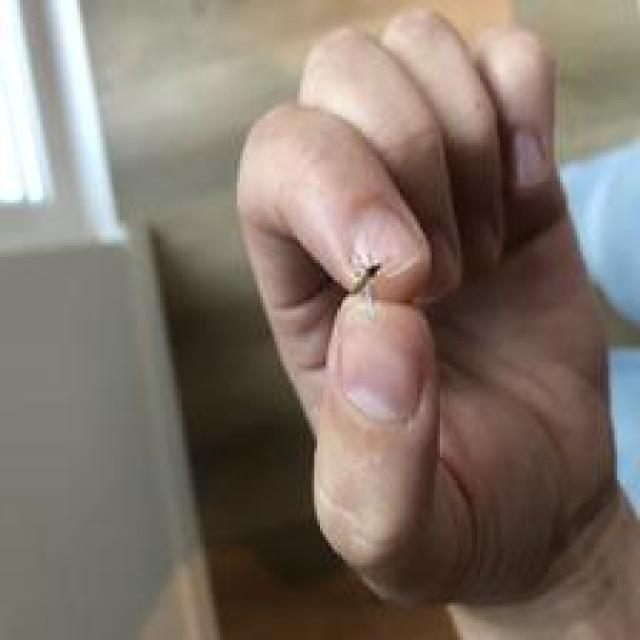Culex: (346, 258, 383, 322)
